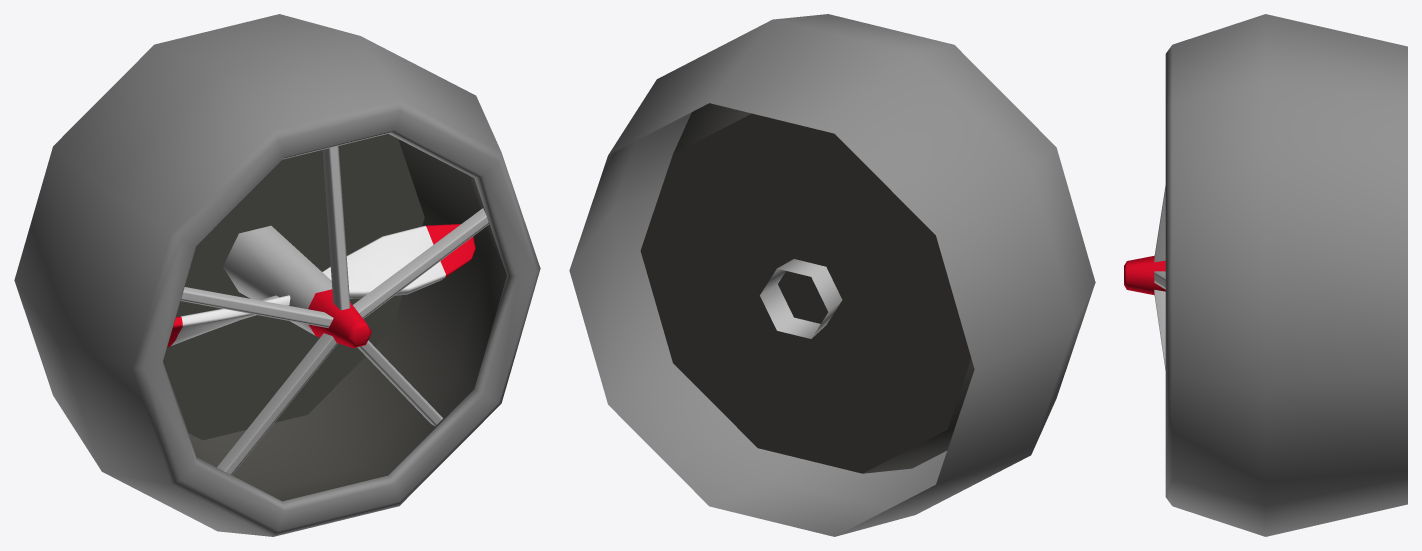
The model's file is Fan1.fbx.
The picture shows the model from 3 angles, left to right: view 1: azimuth 30°, elevation 25°; view 2: azimuth 150°, elevation 25°; view 3: azimuth 270°, elevation 25°; orthographic projection.
Visible parts, largest first — view 1: Fan1; view 2: Fan1; view 3: Fan1.
Boxes of the visible parts, <box> form: Fan1: <box>14,14,540,536</box>; Fan1: <box>569,14,1095,536</box>; Fan1: <box>1124,14,1407,536</box>.
Bounding box in the file's own units: 1.29 × 1.22 × 0.6933.
